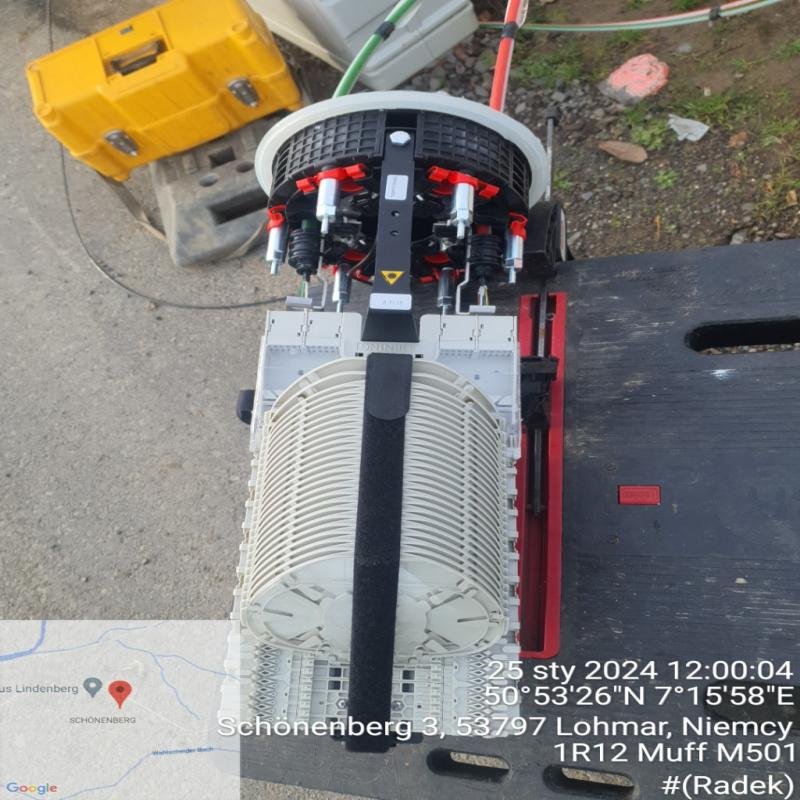NT-Muffen: (206, 87, 557, 749)
